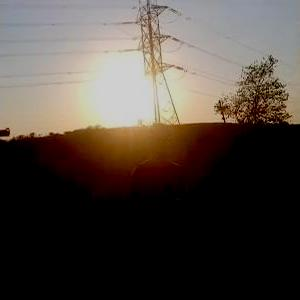follow: (128, 122, 194, 298)
